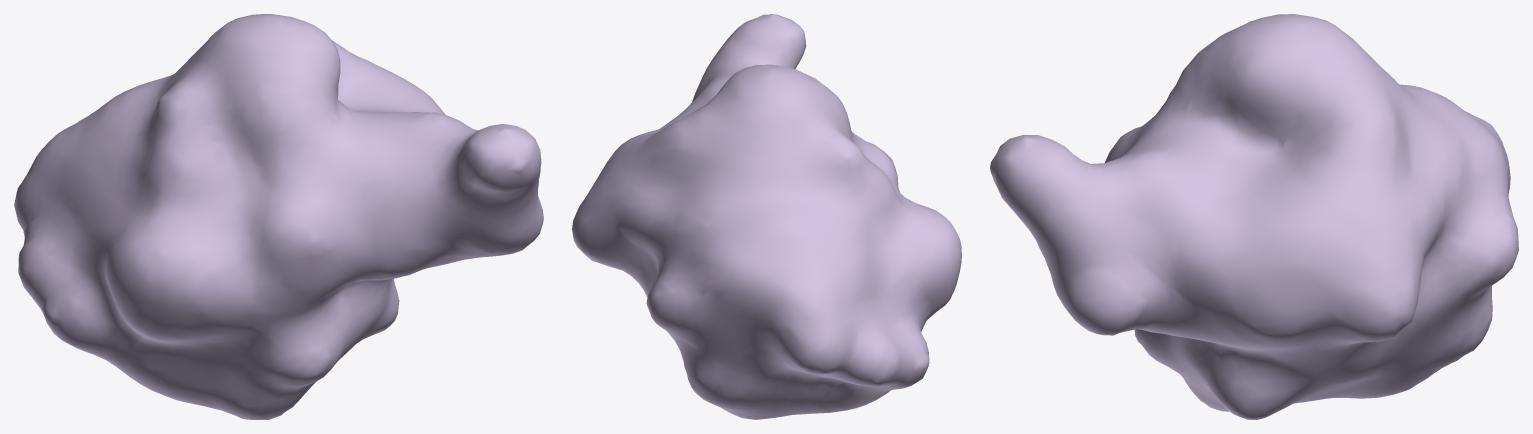
3 views of the same model, side by side, from view 1: azimuth 30°, elevation 25°; view 2: azimuth 150°, elevation 25°; view 3: azimuth 270°, elevation 25° (orthographic). The views are drawn at different scales.
Bounding box in the file's own units: 29.16 × 26.51 × 31.57.
